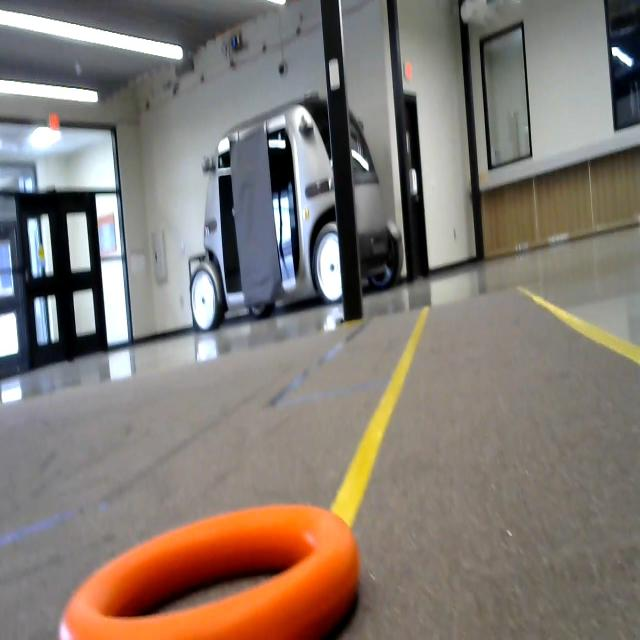note: (48, 520, 396, 640)
